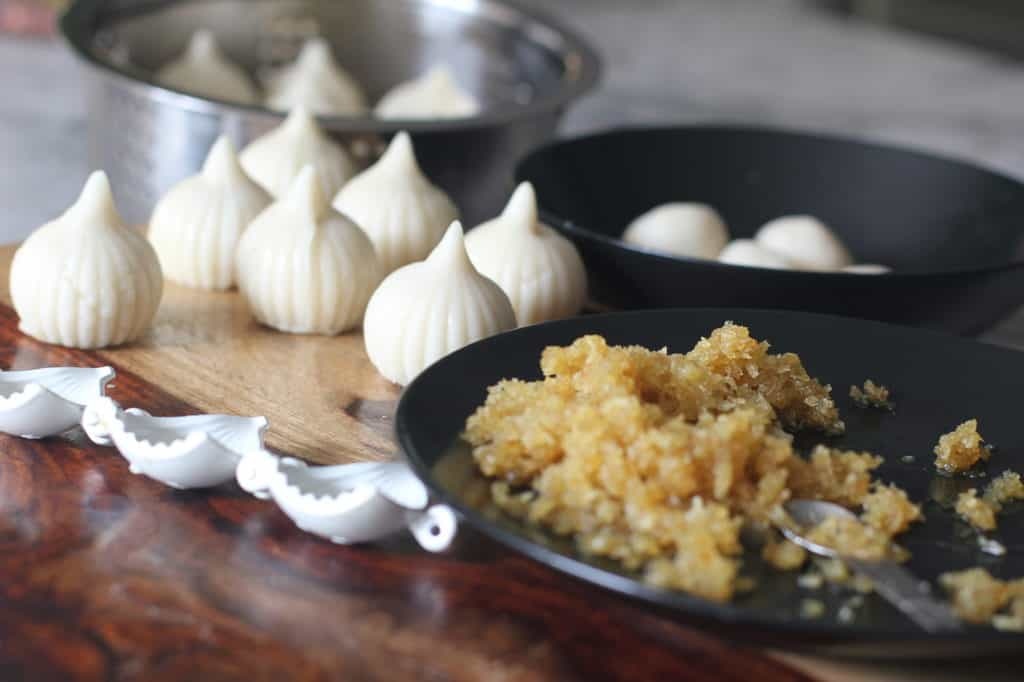modak: (22, 159, 177, 361), (363, 212, 523, 397), (246, 177, 377, 340), (487, 190, 613, 344), (164, 141, 266, 279)
